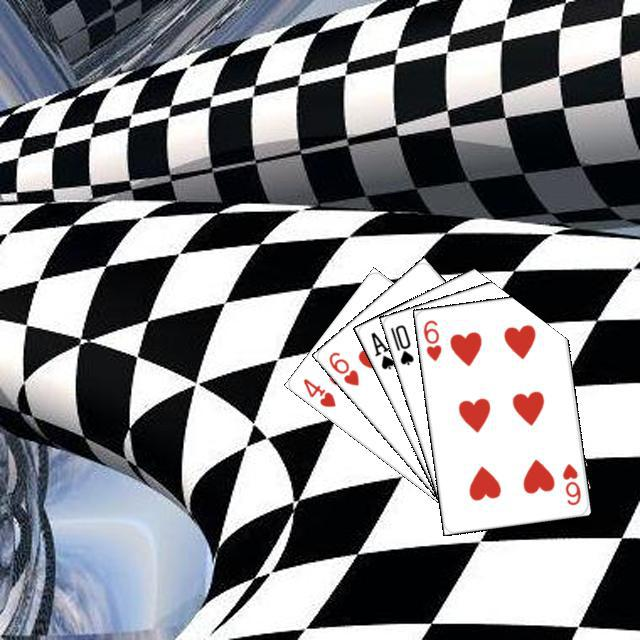10s: (385, 320, 415, 367)
4h: (298, 373, 337, 409)
6h: (323, 347, 361, 388), (418, 315, 443, 363), (557, 459, 582, 507)
As: (366, 327, 396, 371)
